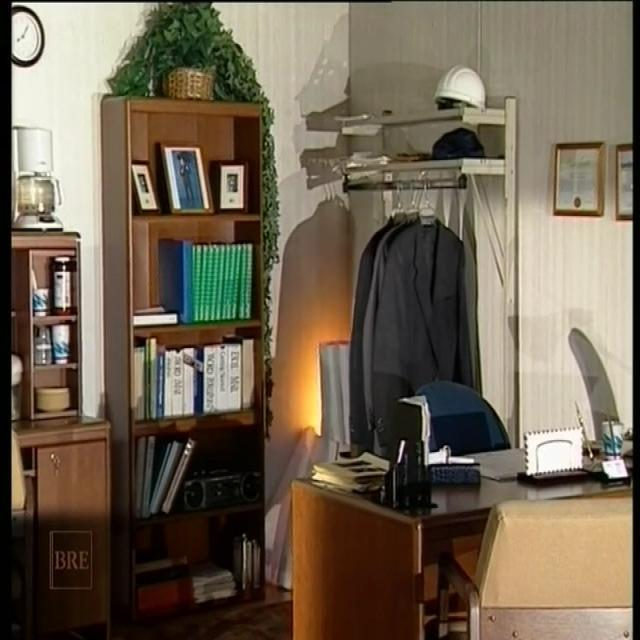Fire: (276, 305, 382, 458)
